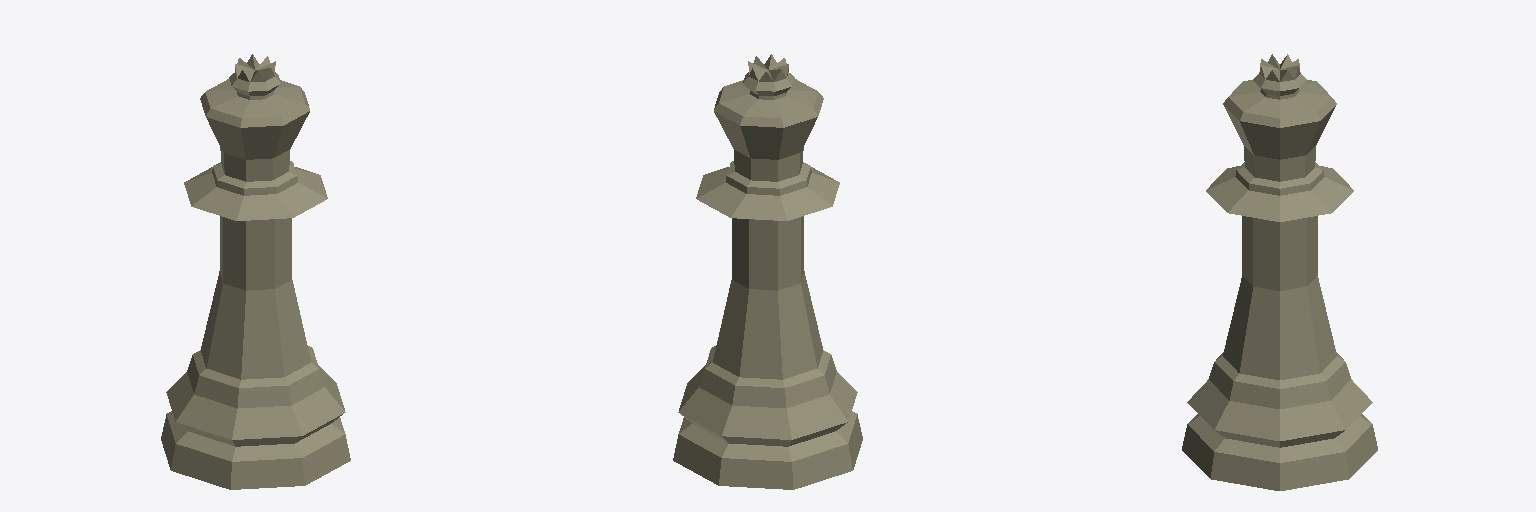
The model's file is chess.obj.
The picture shows the model from 3 angles: view 1: azimuth 30°, elevation 25°; view 2: azimuth 150°, elevation 25°; view 3: azimuth 270°, elevation 25°; orthographic projection.
Visible parts, largest first — view 1: Sphere_Sphere.001; view 2: Sphere_Sphere.001; view 3: Sphere_Sphere.001.
Part boxes in pixels (x1,y1,x2,y2): Sphere_Sphere.001: (161,54,350,489); Sphere_Sphere.001: (673,54,862,489); Sphere_Sphere.001: (1182,54,1377,490).
Size of the model in its own units: 0.9234 by 2.01 by 0.9234.